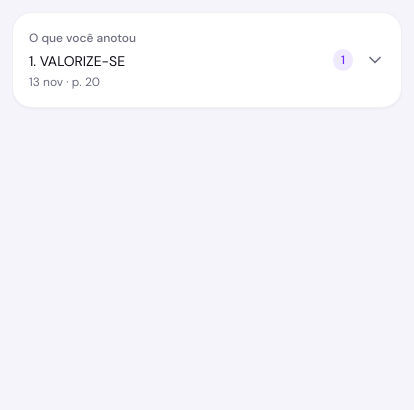
Test: anotações do livro (acordeão) › anotação longa vem resumida com 'Ler mais' e 'Mostrar menos'
Click the button "O que você anotou 1. VALORIZE-SE 13 nov · p. 20 1". click: [83, 38]
box: [13,13,401,107]
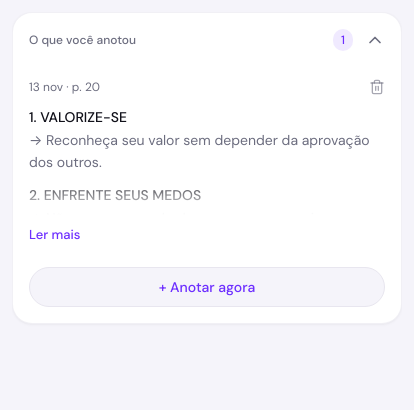
Click the button "Ler mais". click: [55, 235]
box: [29,219,80,251]
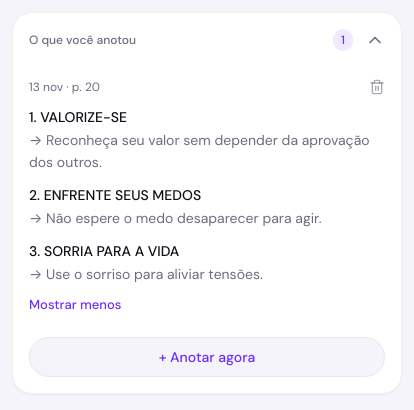
Result: the button "Mostrar menos" is expanded at [29,289,121,321]
